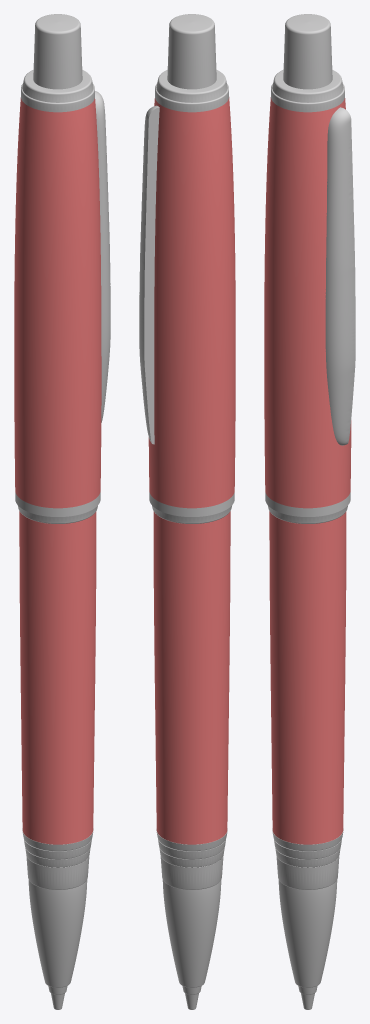
The model's file is pen.gltf.
3 views of the same model, side by side, from view 1: azimuth 30°, elevation 25°; view 2: azimuth 210°, elevation 25°; view 3: azimuth 330°, elevation 25° (orthographic).
Bounding box in the file's own units: 0.0279 × 0.3073 × 0.0247.
